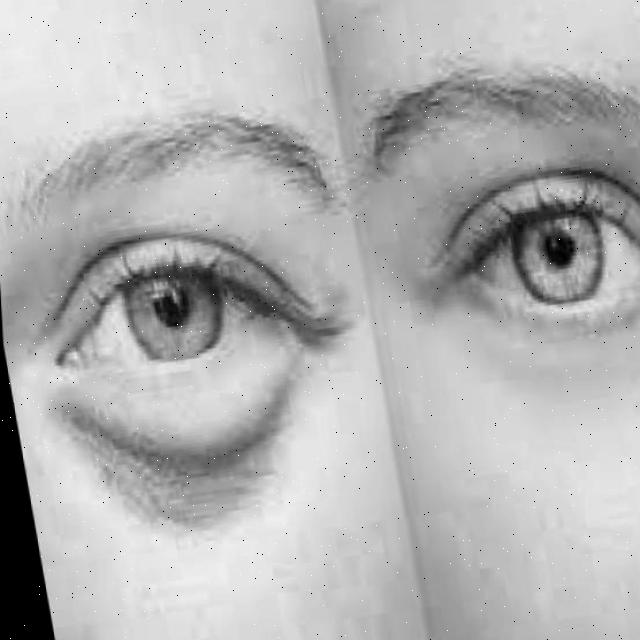puffy_eyes: (44, 345, 351, 541)
